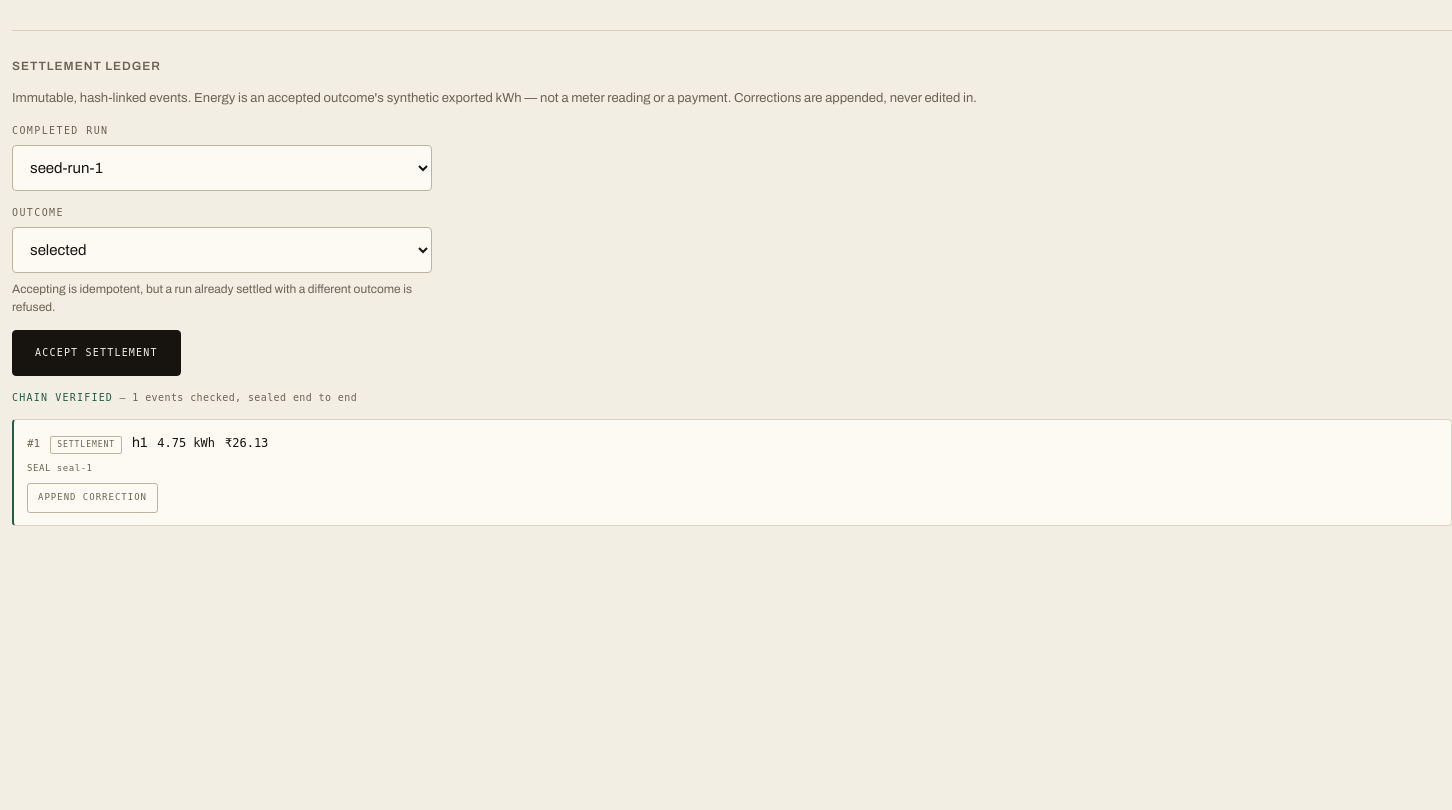
Test: LedgerPanel settlement › reports a refused change of outcome
This screenshot has width=1452, height=810.
What coordinates should you click on to do the following:
click the button "ACCEPT SETTLEMENT"
I would click on:
 (96, 352)
Its box is [12,330,181,376].
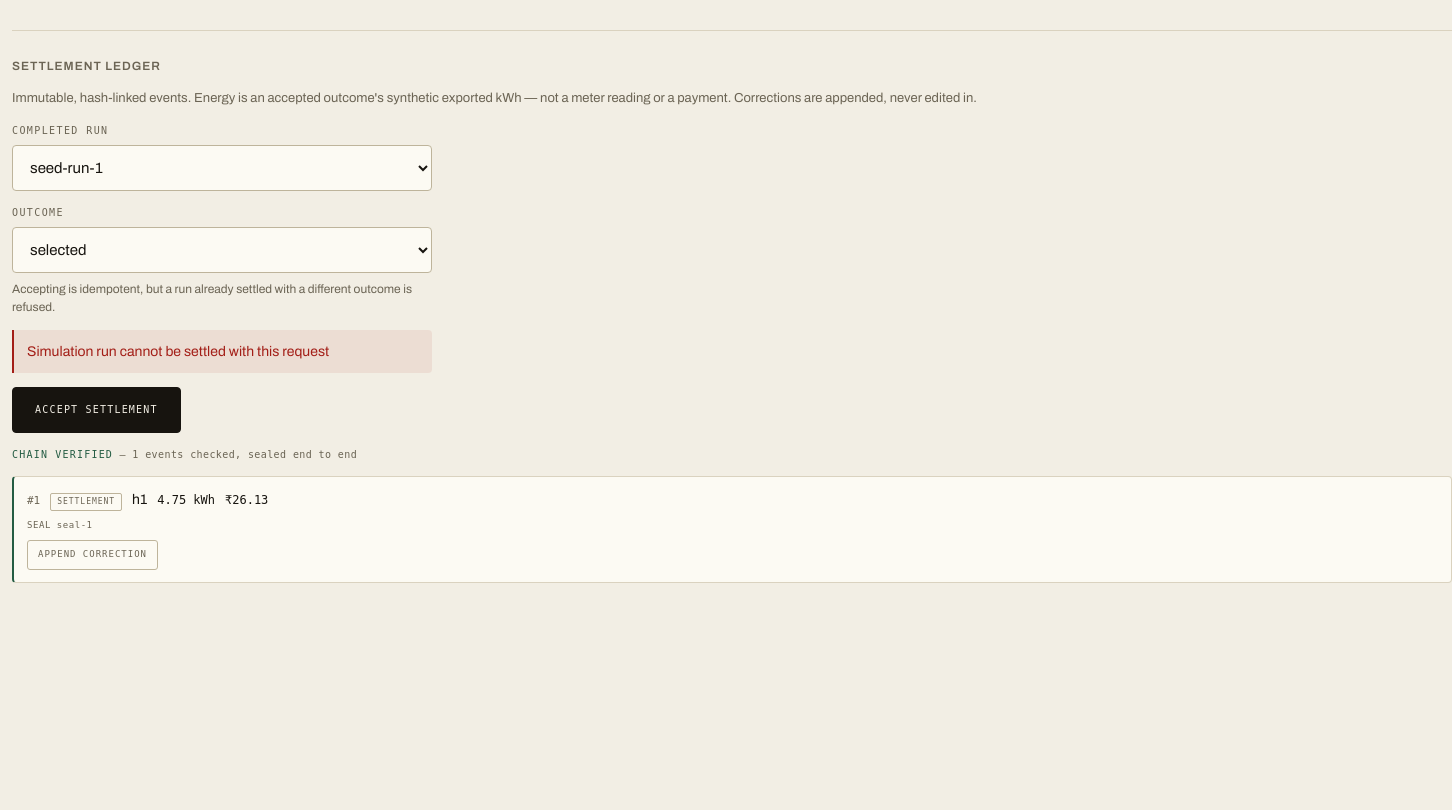
Expected: the message shows "cannot be settled", [27,344,329,358]
